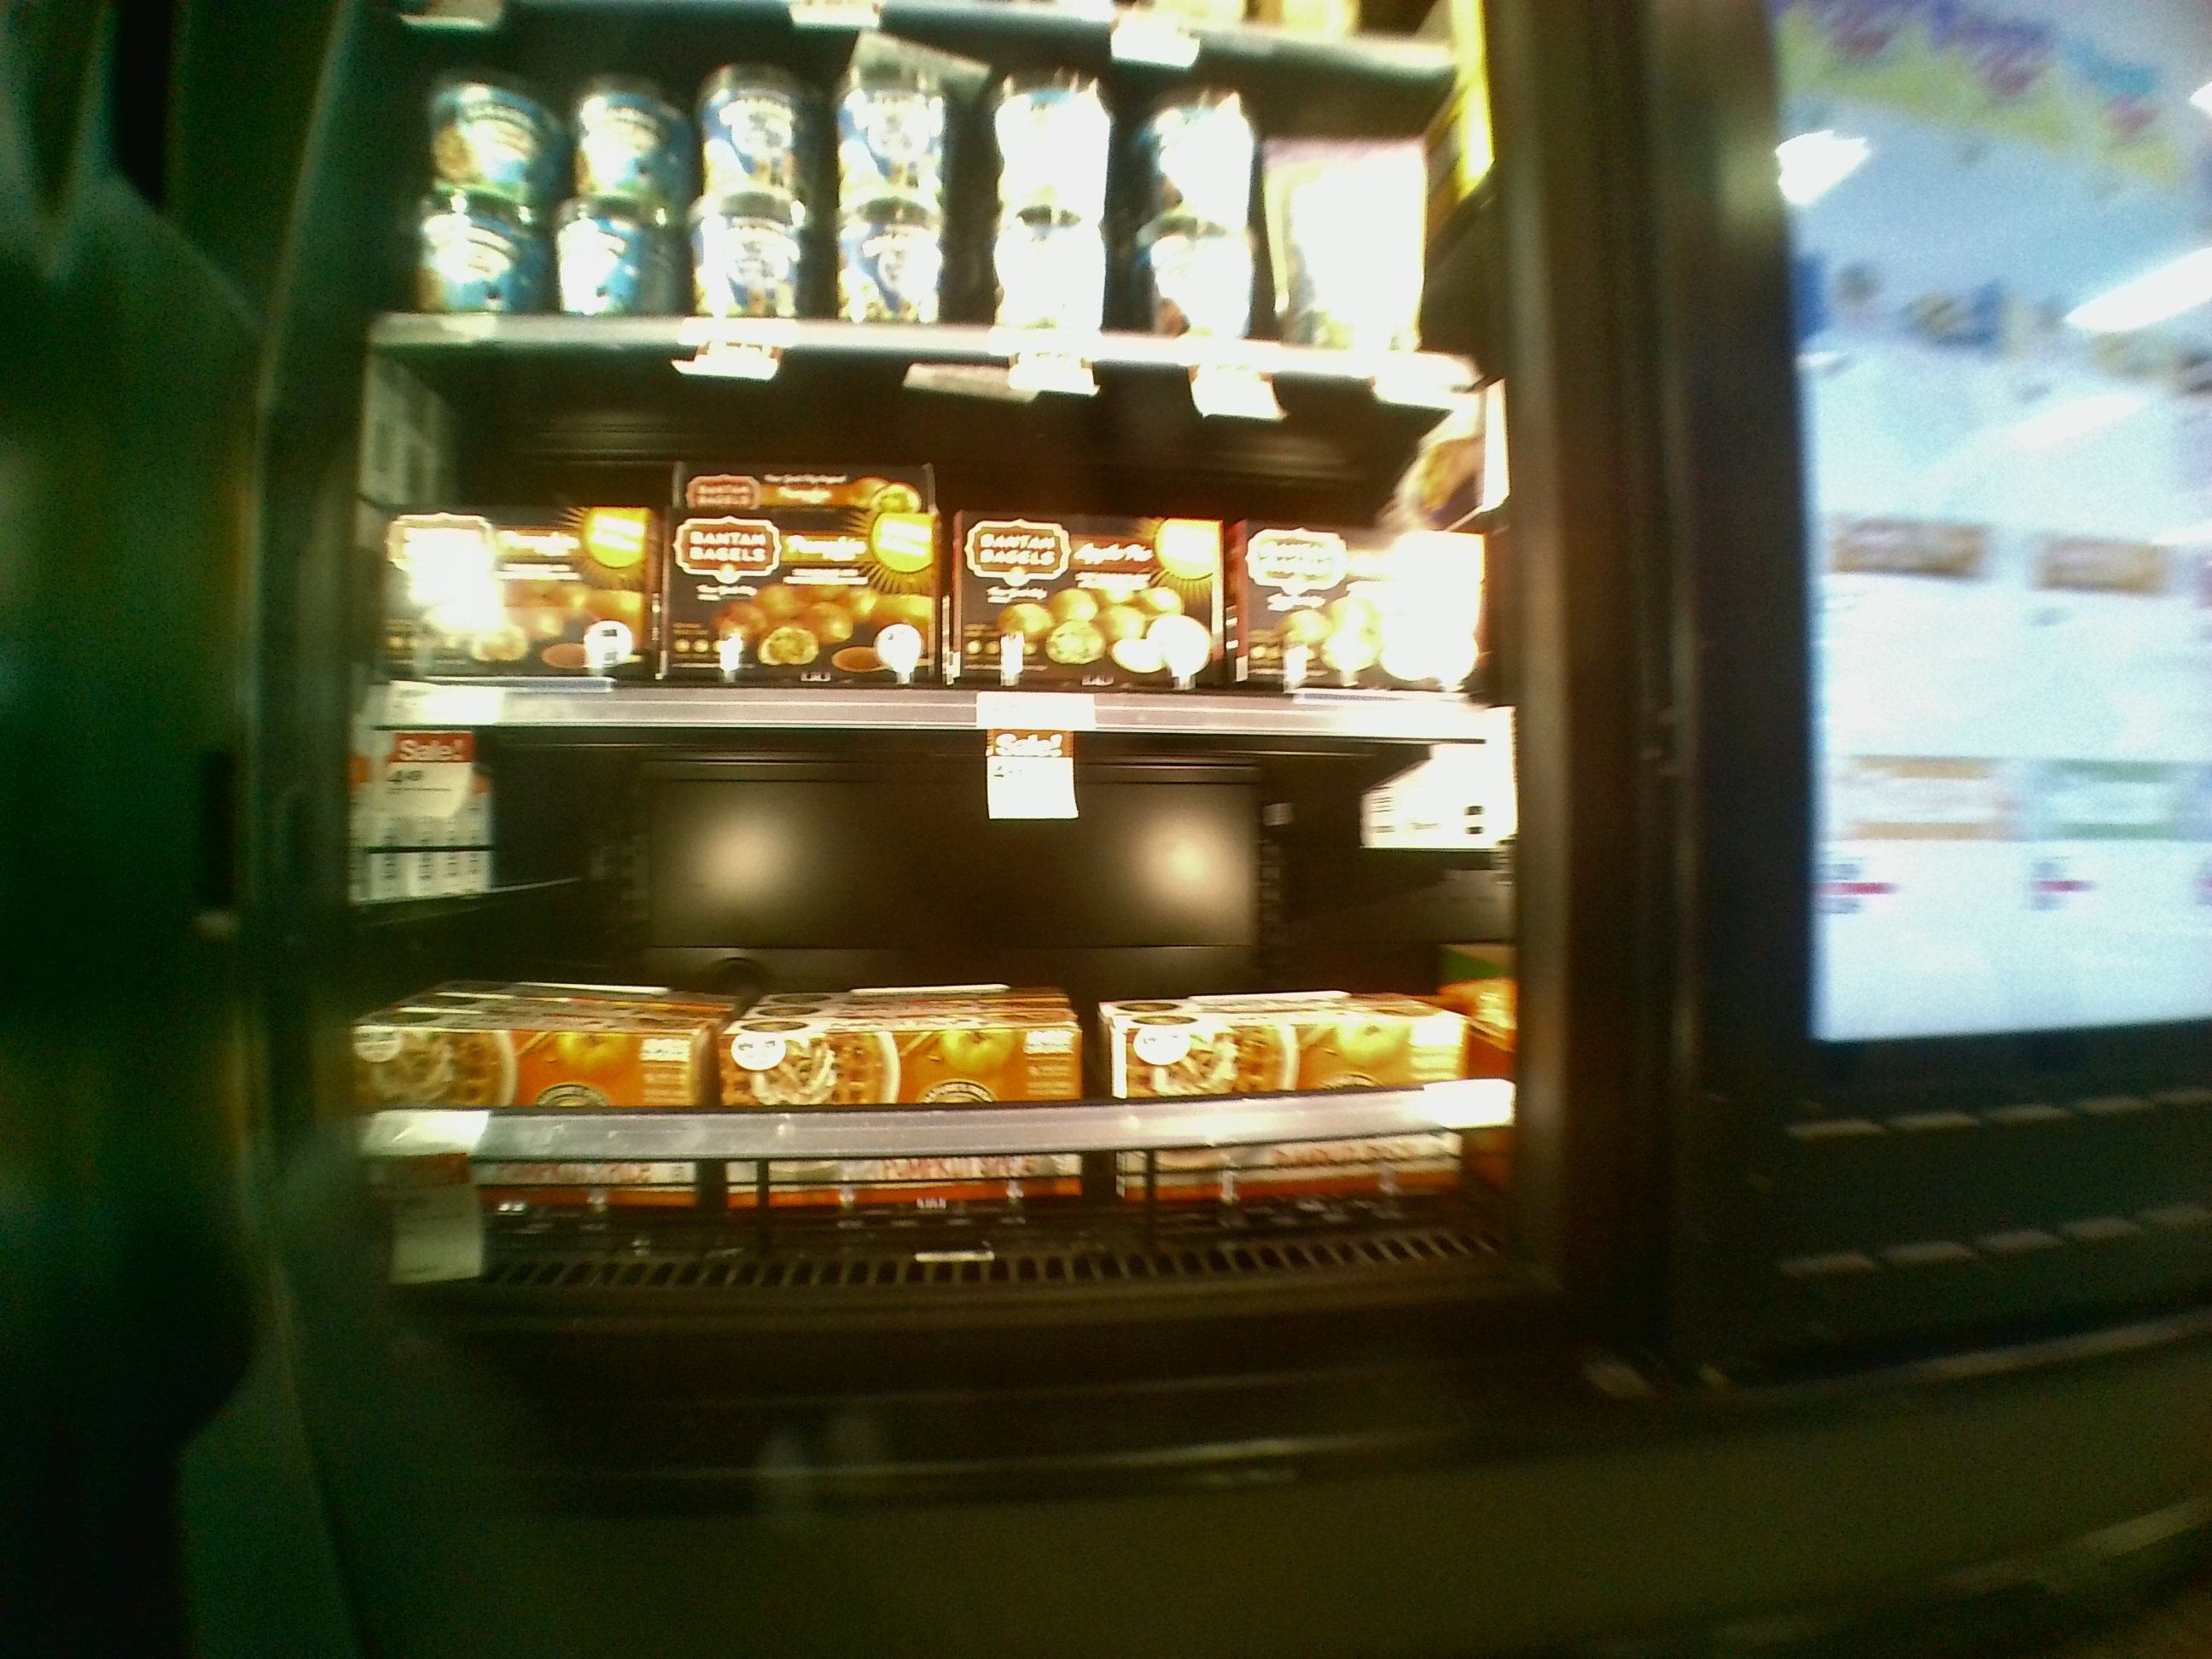shelf: (324, 683, 1529, 1300), (350, 324, 1507, 746)
